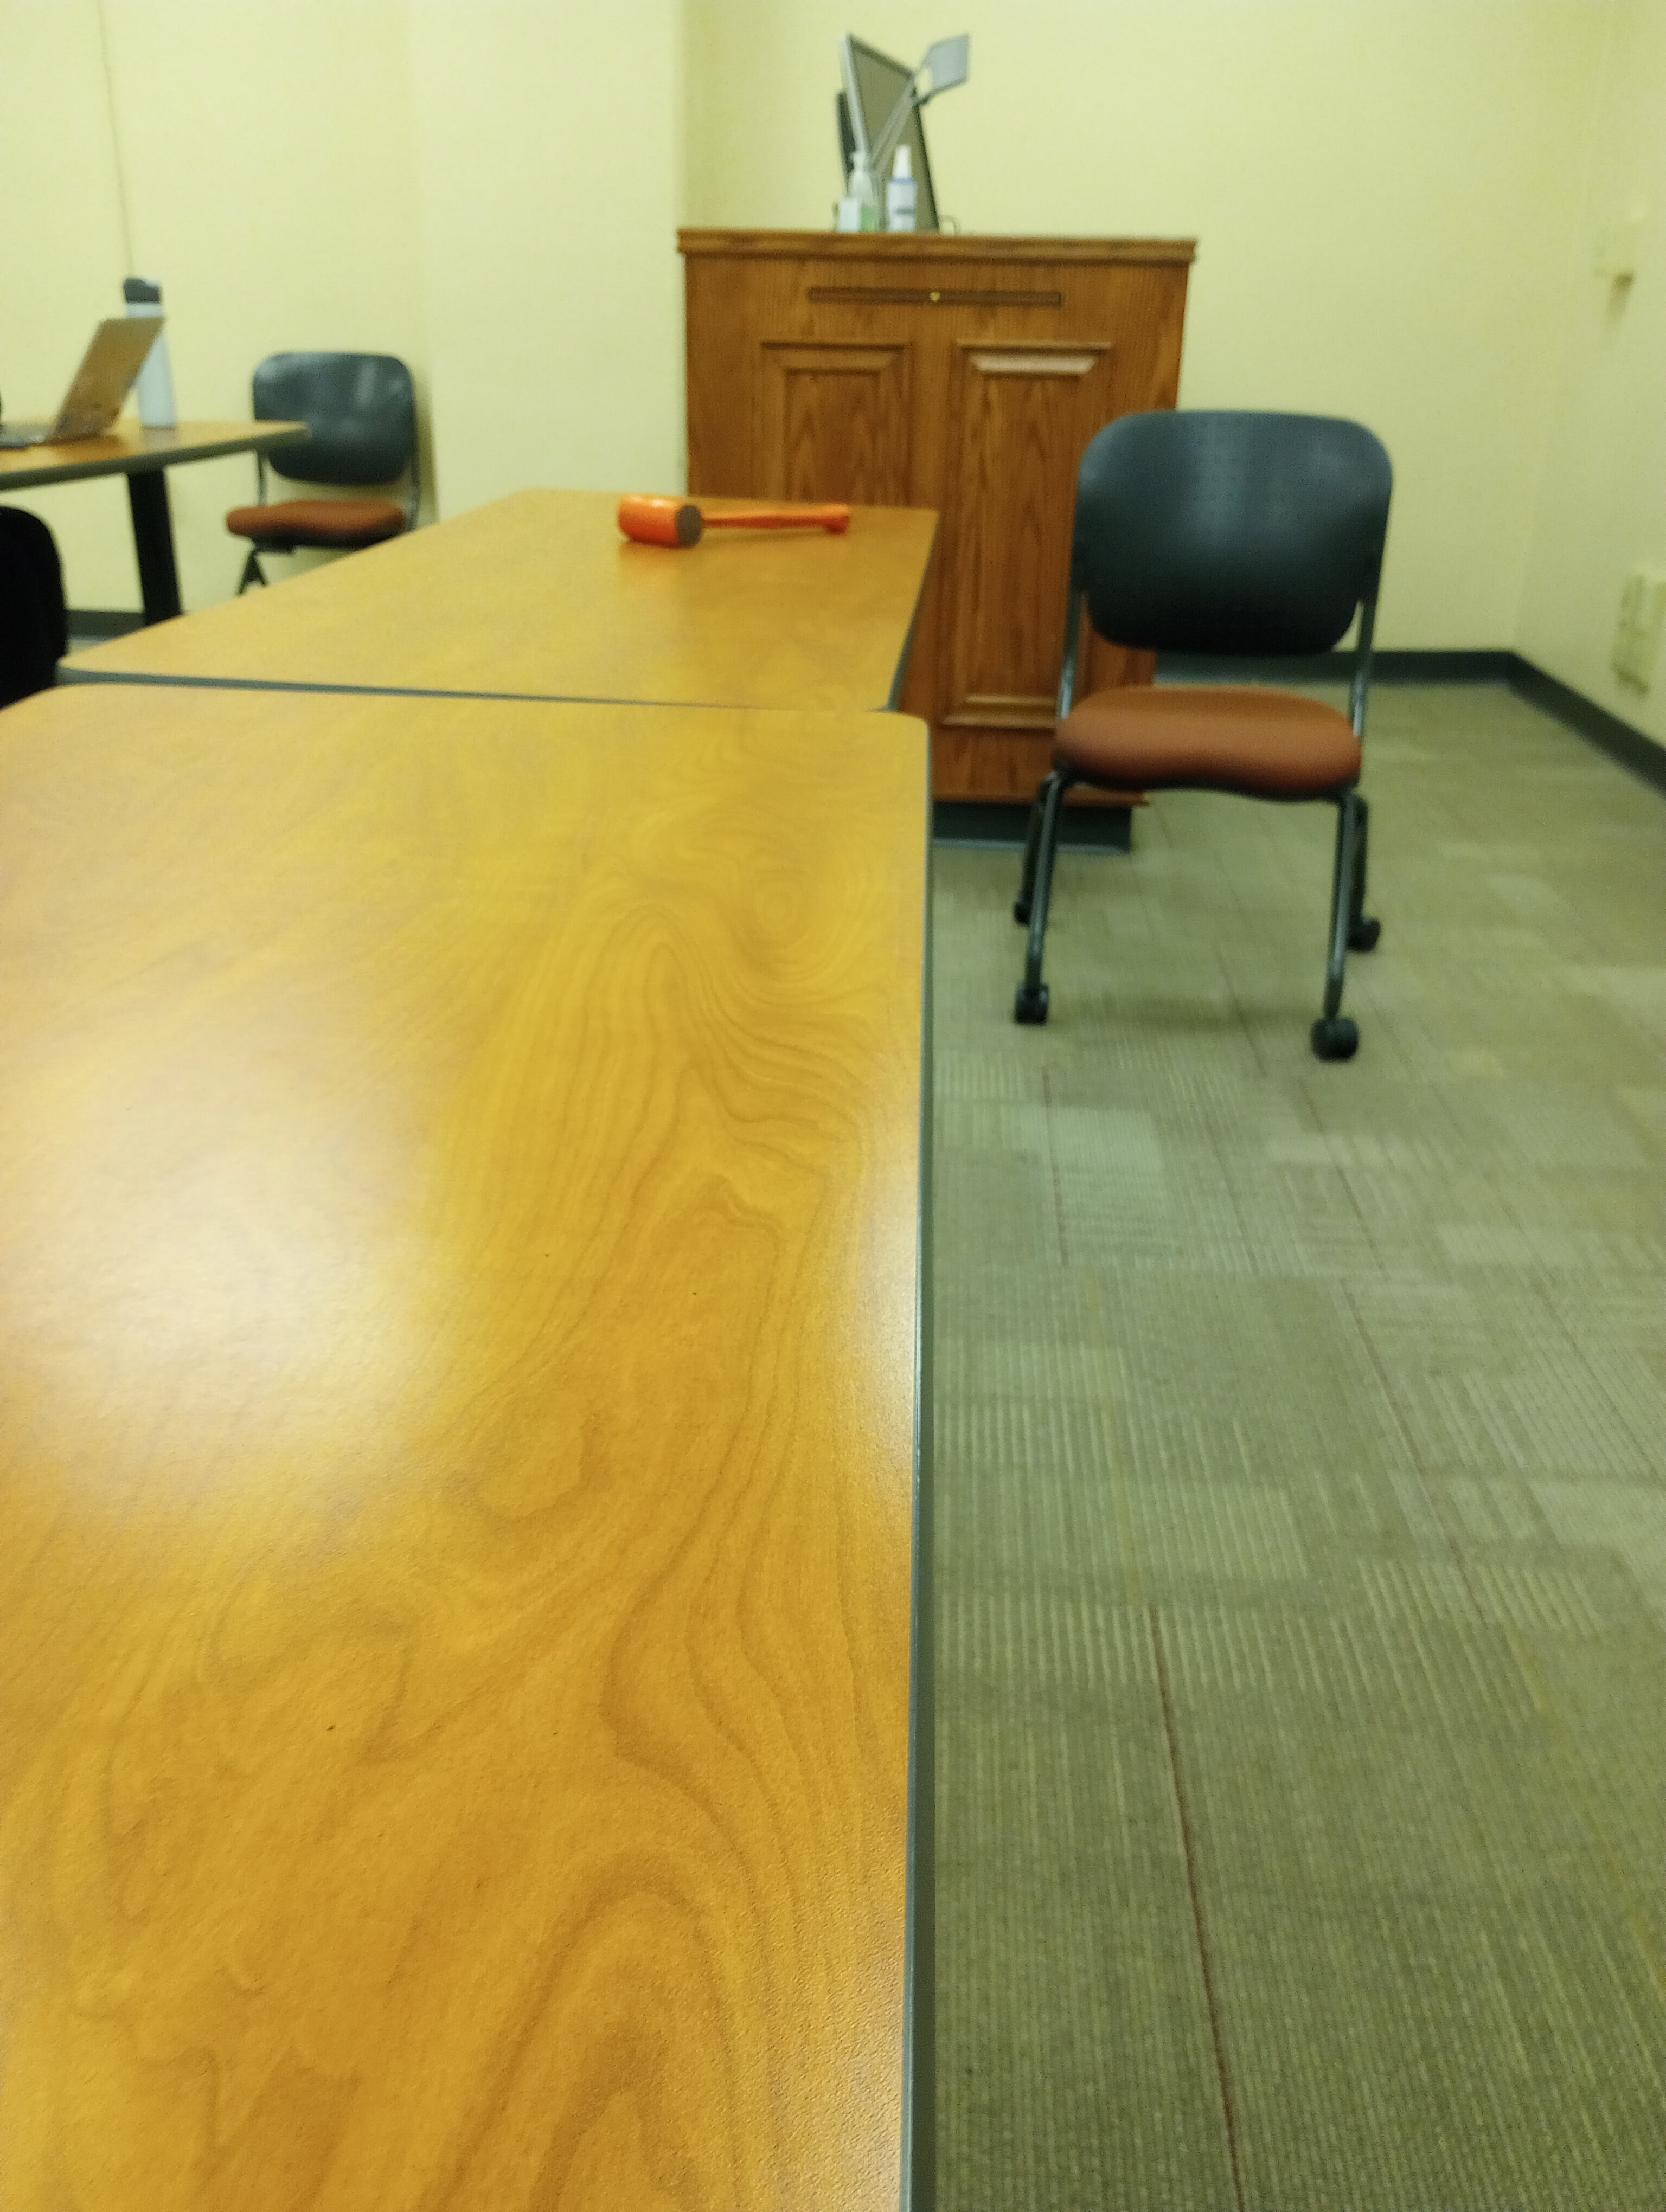hammer: (614, 481, 856, 558)
